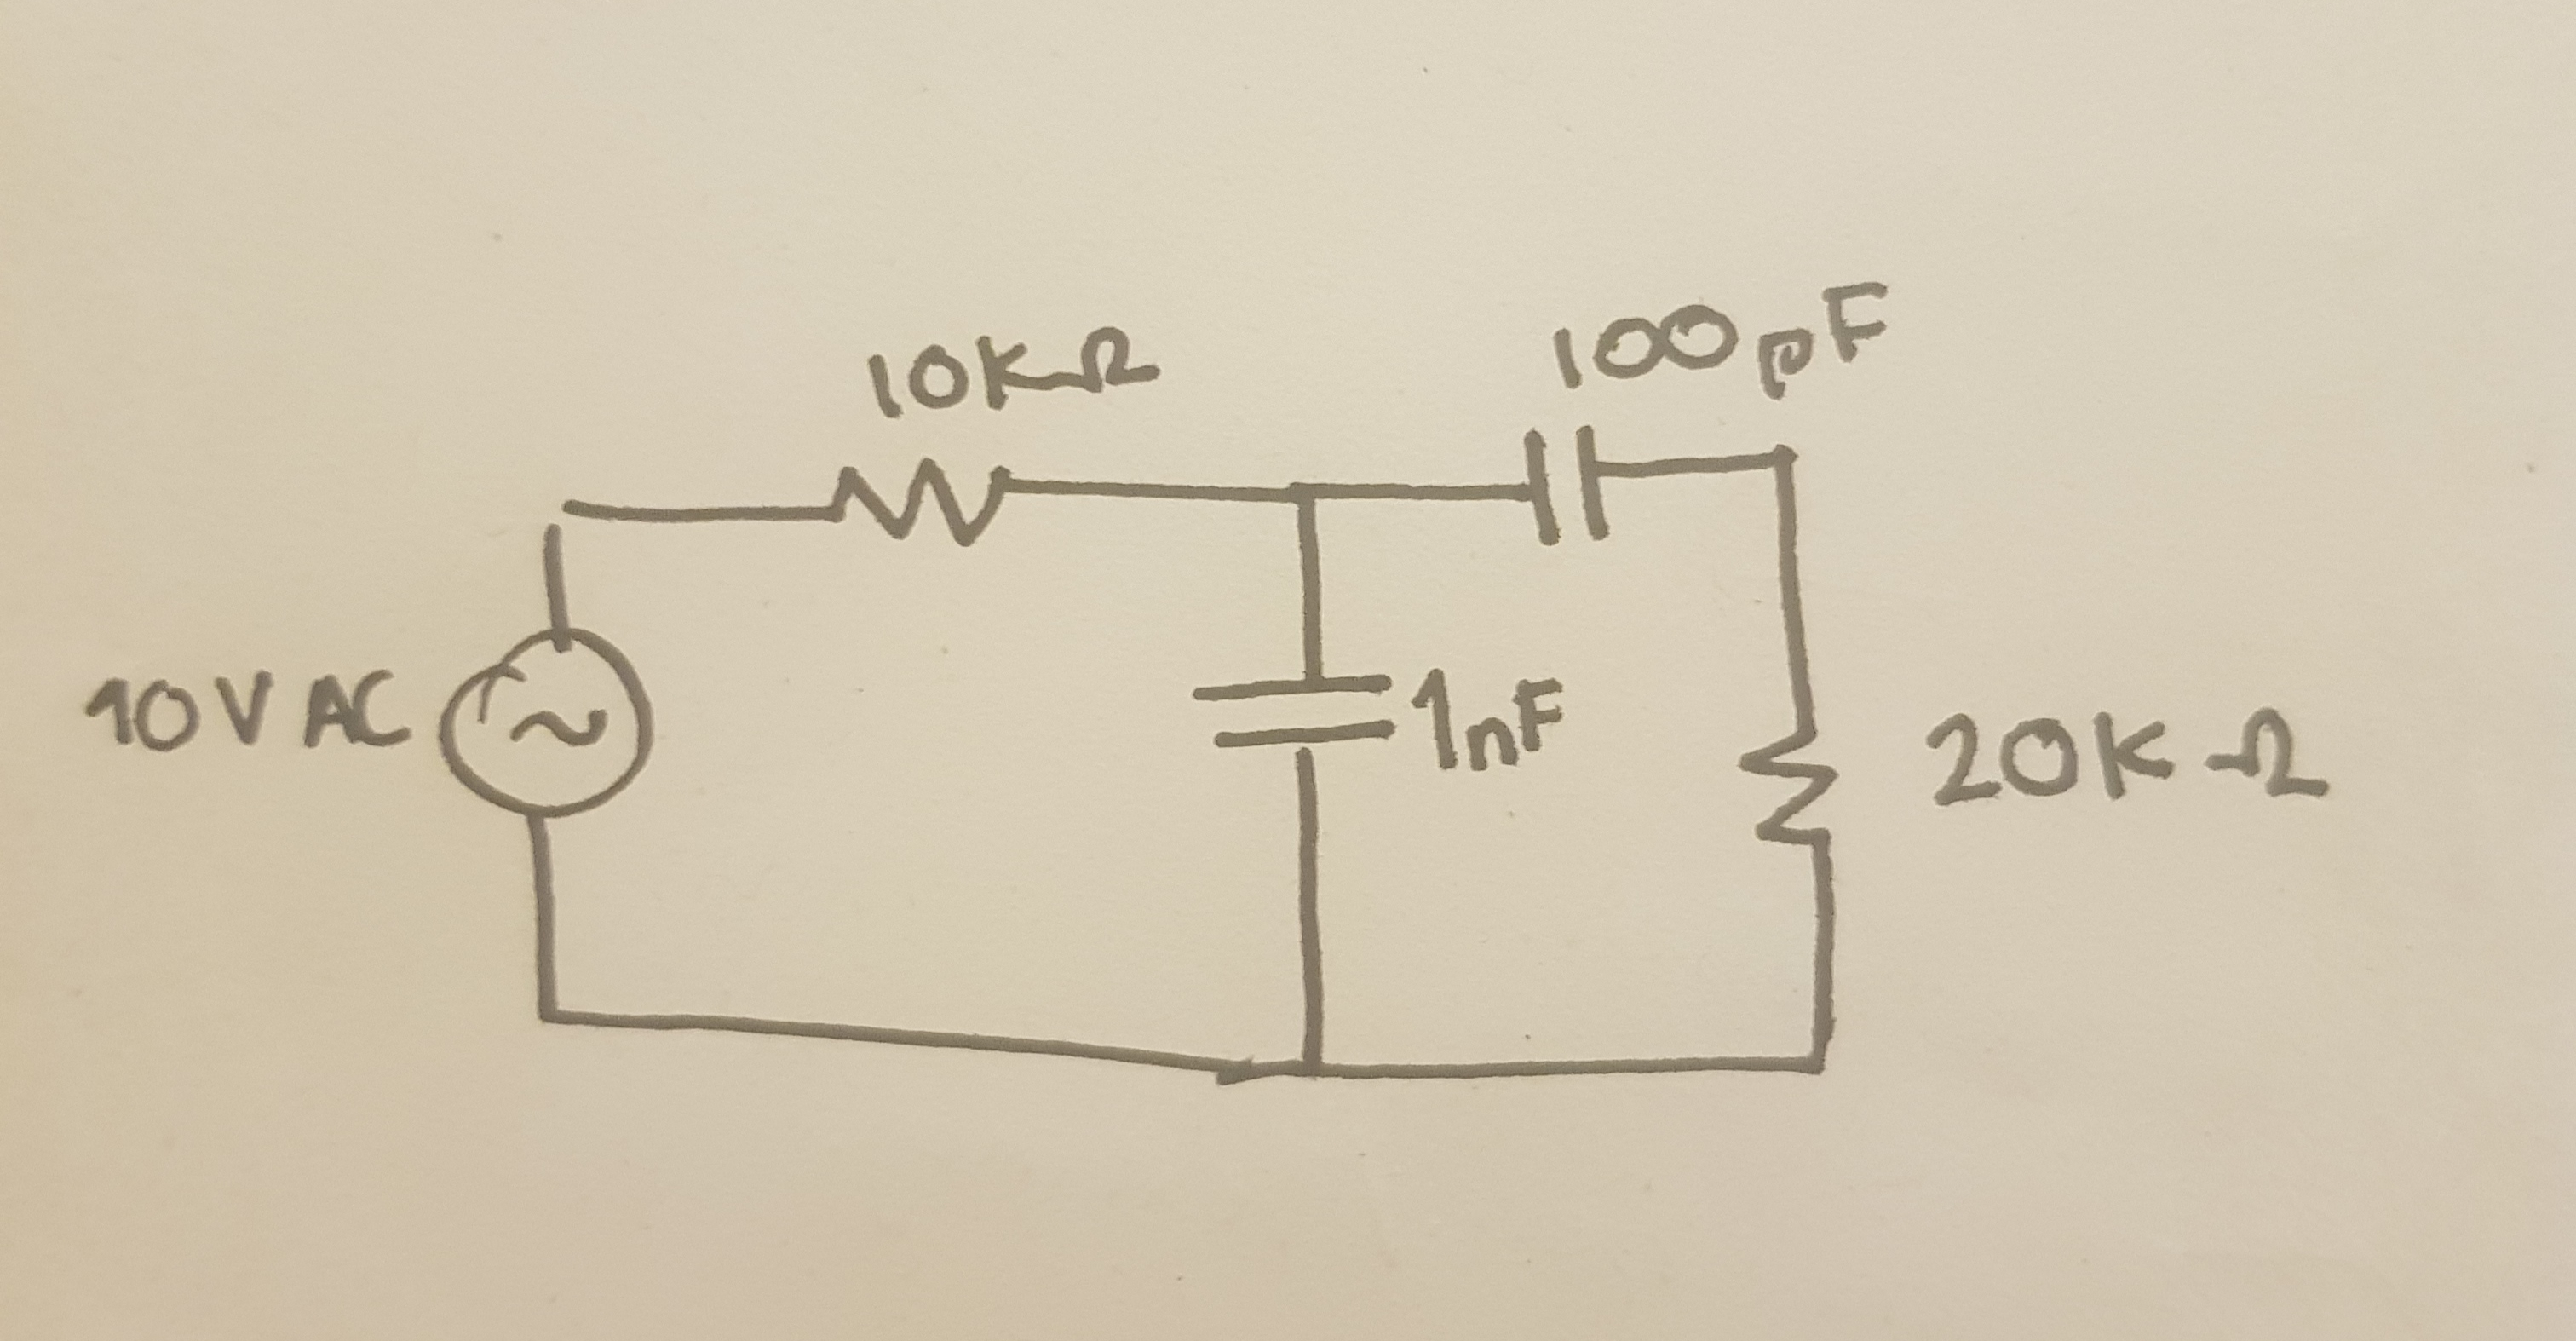capacitor.unpolarized: (1179, 656, 1411, 770), (1509, 419, 1624, 559)
junction: (1768, 1016, 1860, 1114), (511, 978, 603, 1050), (515, 481, 596, 555), (1748, 433, 1826, 508), (1264, 470, 1346, 532), (1274, 1039, 1346, 1108)
resistor: (809, 440, 1038, 561), (1731, 705, 1850, 859)
text: (1918, 699, 2341, 832), (1550, 269, 1912, 399), (65, 658, 416, 760), (859, 317, 1169, 429), (1400, 665, 1578, 780)
voltage.dc: (429, 630, 671, 826)
